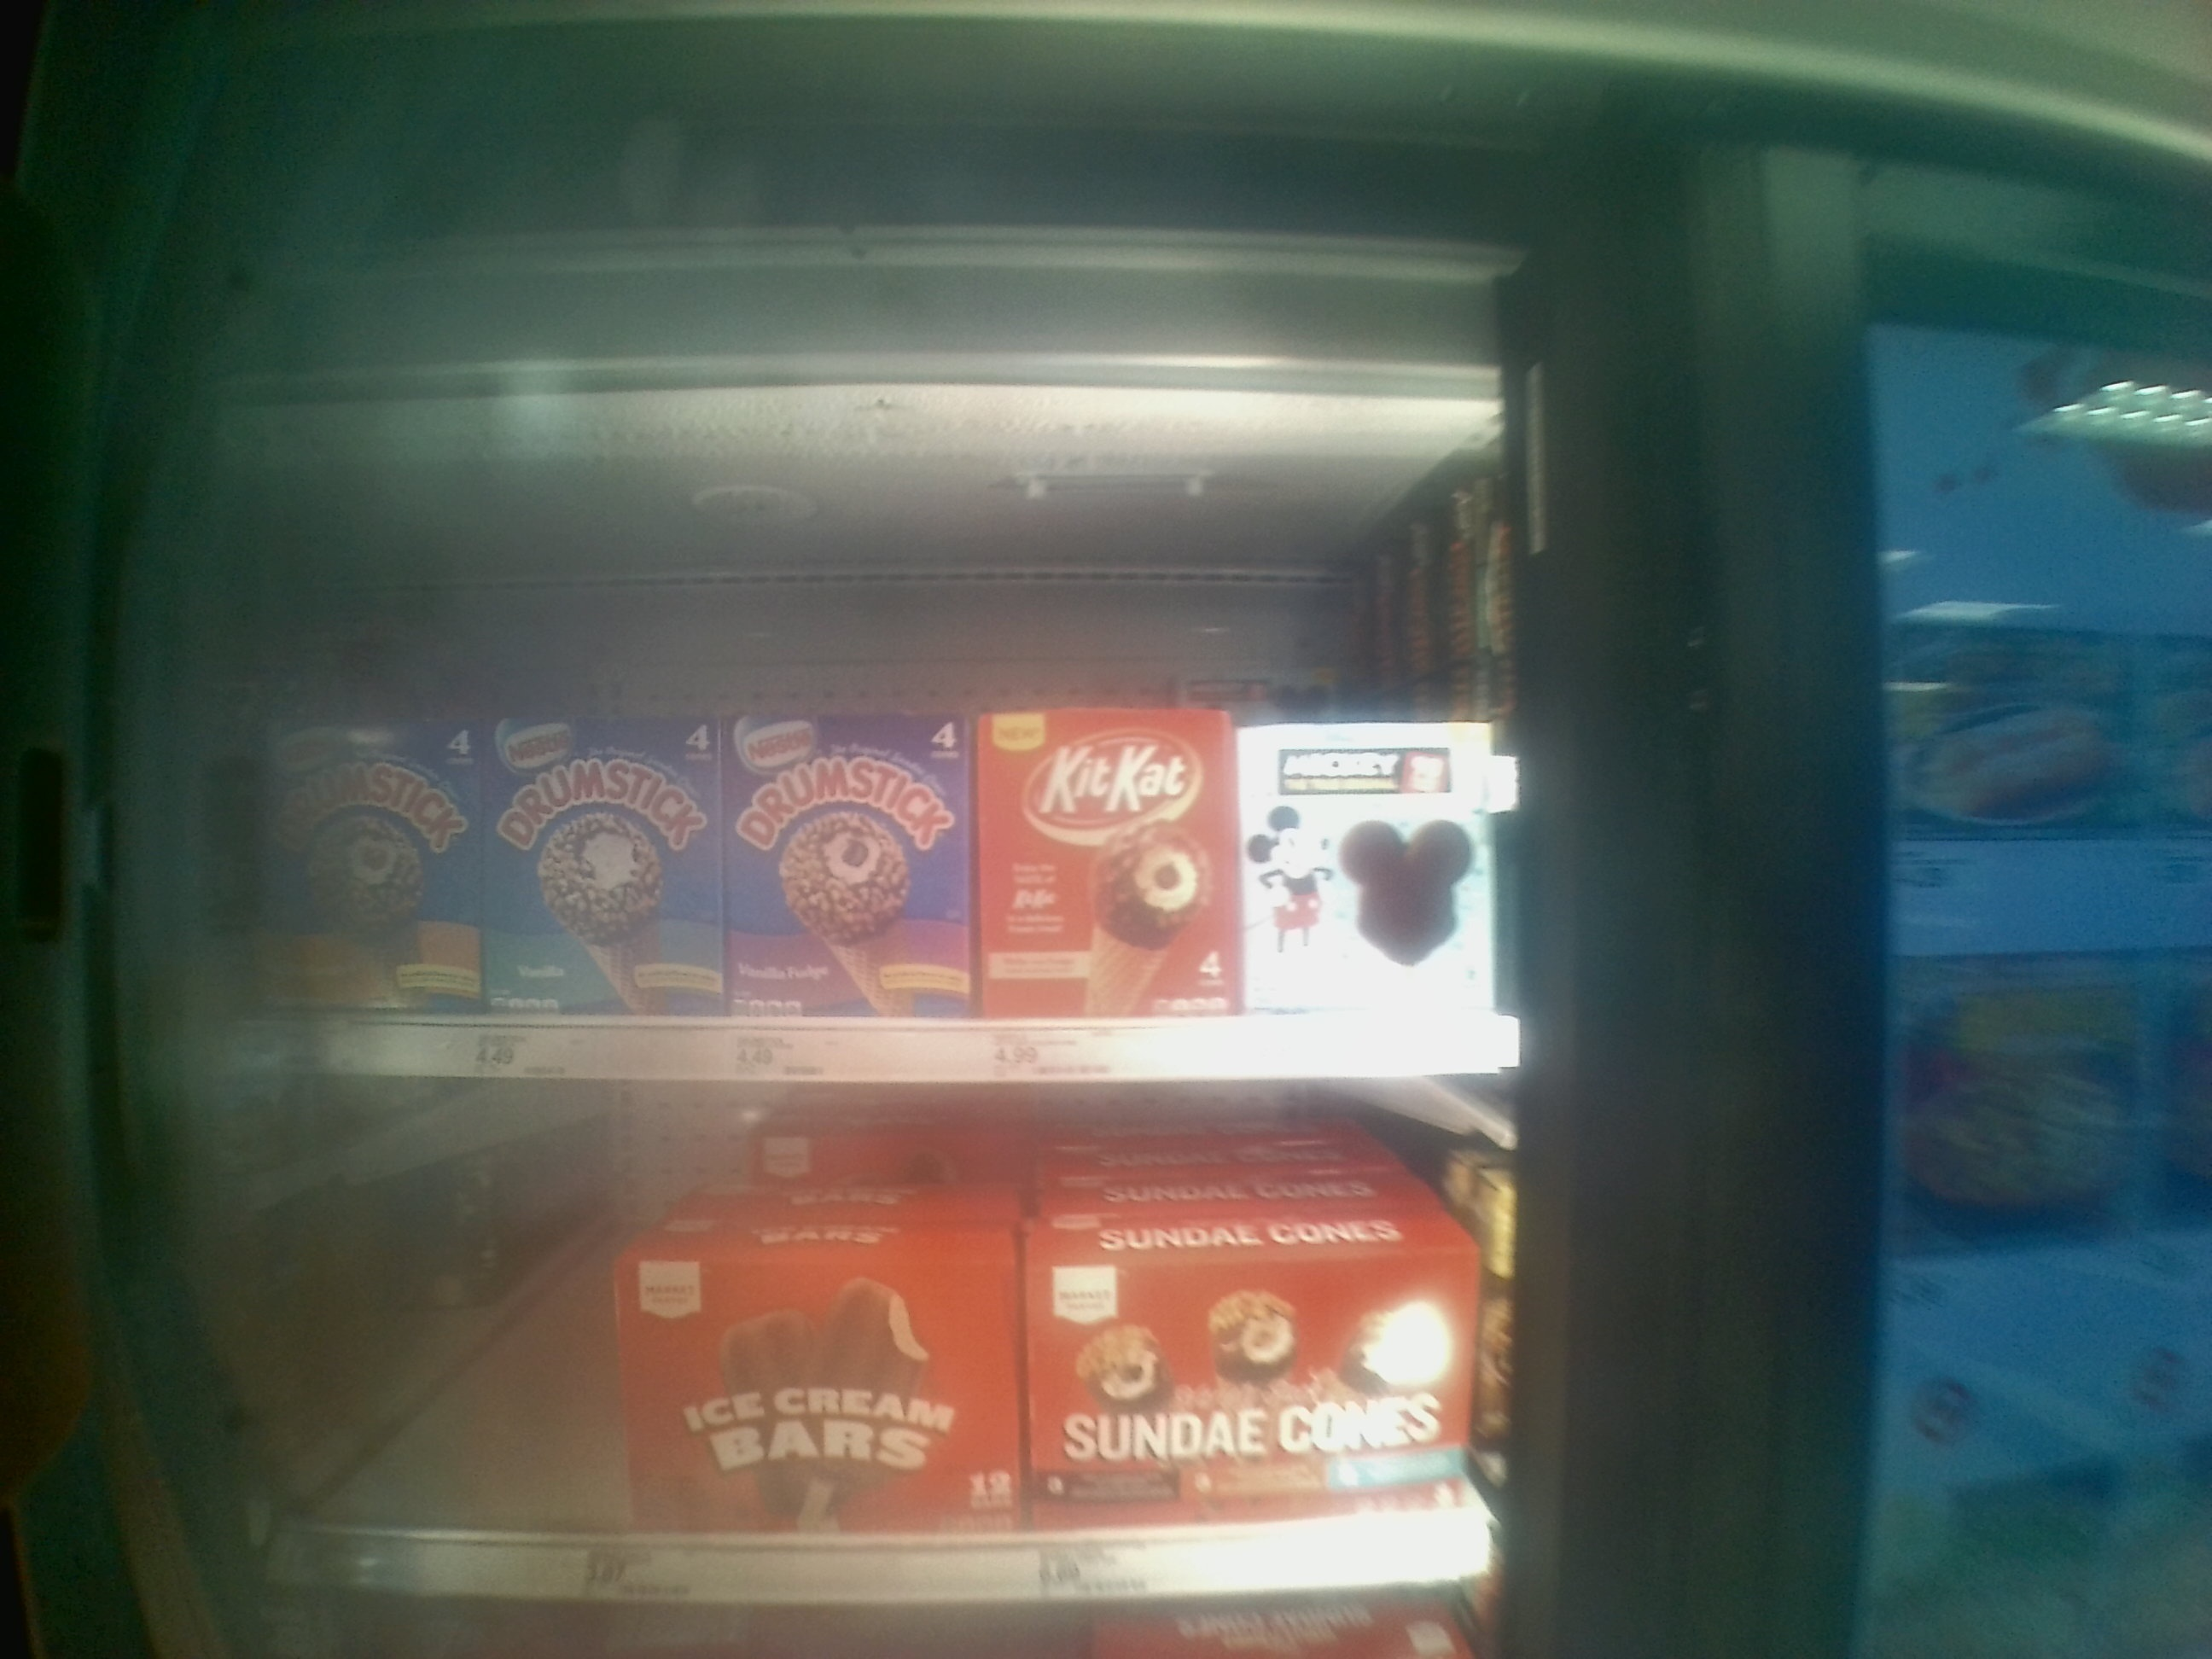shelf: (225, 1075, 1496, 1595), (225, 633, 1508, 1073)
